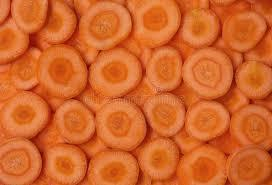Organic: (1, 2, 272, 185)
